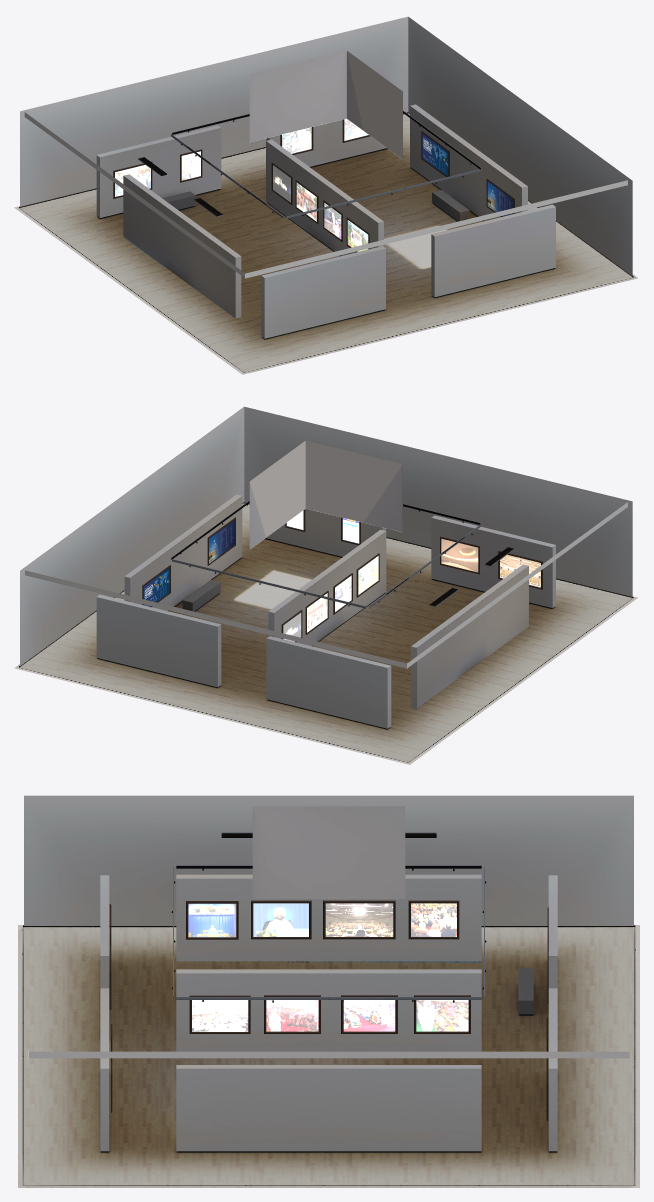
File: world-centers-gallery.gltf
3 views of the same model, one above another, from view 1: azimuth 30°, elevation 25°; view 2: azimuth 150°, elevation 25°; view 3: azimuth 270°, elevation 25° (orthographic). The views are drawn at different scales.
Visible parts, largest first — view 1: floor, walls_exterior, walls, celling, props, Wall1_01_SOS_WorldCentersStats, Wall3_13_DSC_1621, Wall4_24_010947_14, Wall4_16_P1470982, Wall1_02_SOS_WorldCenters_List, Wall3_14_DSC_9800, Wall4_15_IMG_2775 (+2 smaller); view 2: floor, walls_exterior, walls, celling, props, Wall3_06_Sanctuary_Science_Of_Spirituality, Wall3_07_Main_Hall, Wall1_02_SOS_WorldCenters_List, Wall1_01_SOS_WorldCentersStats, Wall4_18_040208_13, Wall4_16_P1470982, Wall4_17_10220_24; view 3: floor, walls, walls_exterior, celling, props, Wall3_11_IMG_7070, Wall3_10_DSC_4768, Wall4_20_Scan-147, Wall3_12_Scan-200, Wall3_09_IMG_5375, Wall4_21_P1210584, Wall4_22_Scan-133 (+1 smaller).
Boxes of the visible parts, box(x1,y1,x2,y2) form: floor: box(14, 113, 637, 374); walls_exterior: box(19, 16, 633, 277); walls: box(96, 104, 555, 339); celling: box(24, 50, 627, 278); props: box(138, 110, 481, 221); Wall1_01_SOS_WorldCentersStats: box(421, 131, 449, 179); Wall3_13_DSC_1621: box(113, 161, 152, 198); Wall4_24_010947_14: box(280, 127, 313, 154); Wall4_16_P1470982: box(295, 180, 318, 224); Wall1_02_SOS_WorldCenters_List: box(486, 179, 514, 216); Wall3_14_DSC_9800: box(180, 149, 202, 182); Wall4_15_IMG_2775: box(271, 162, 292, 205); floor: box(14, 503, 637, 764); walls_exterior: box(19, 406, 633, 667); walls: box(96, 494, 555, 729); celling: box(24, 440, 627, 668); props: box(171, 500, 514, 611); Wall3_06_Sanctuary_Science_Of_Spirituality: box(440, 536, 479, 574); Wall3_07_Main_Hall: box(498, 551, 542, 589); Wall1_02_SOS_WorldCenters_List: box(207, 517, 235, 565); Wall1_01_SOS_WorldCentersStats: box(142, 565, 170, 606); Wall4_18_040208_13: box(356, 553, 379, 597); Wall4_16_P1470982: box(305, 591, 328, 634); Wall4_17_10220_24: box(333, 573, 352, 614); floor: box(18, 925, 639, 1187); walls: box(100, 874, 557, 1152); walls_exterior: box(22, 795, 635, 954); celling: box(28, 806, 629, 1058); props: box(171, 832, 533, 1015); Wall3_11_IMG_7070: box(323, 900, 395, 939); Wall3_10_DSC_4768: box(251, 900, 311, 939); Wall4_20_Scan-147: box(189, 995, 250, 1033); Wall3_12_Scan-200: box(408, 900, 459, 939); Wall3_09_IMG_5375: box(186, 901, 238, 939); Wall4_21_P1210584: box(264, 995, 320, 1033); Wall4_22_Scan-133: box(341, 995, 397, 1033).
Size of the model in its own units: 16.65 by 6.44 by 16.75.
